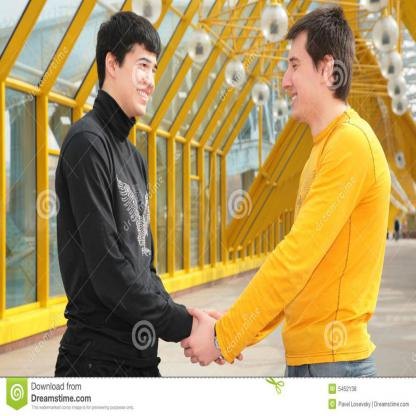face: (285, 33, 313, 119), (131, 37, 159, 116)
